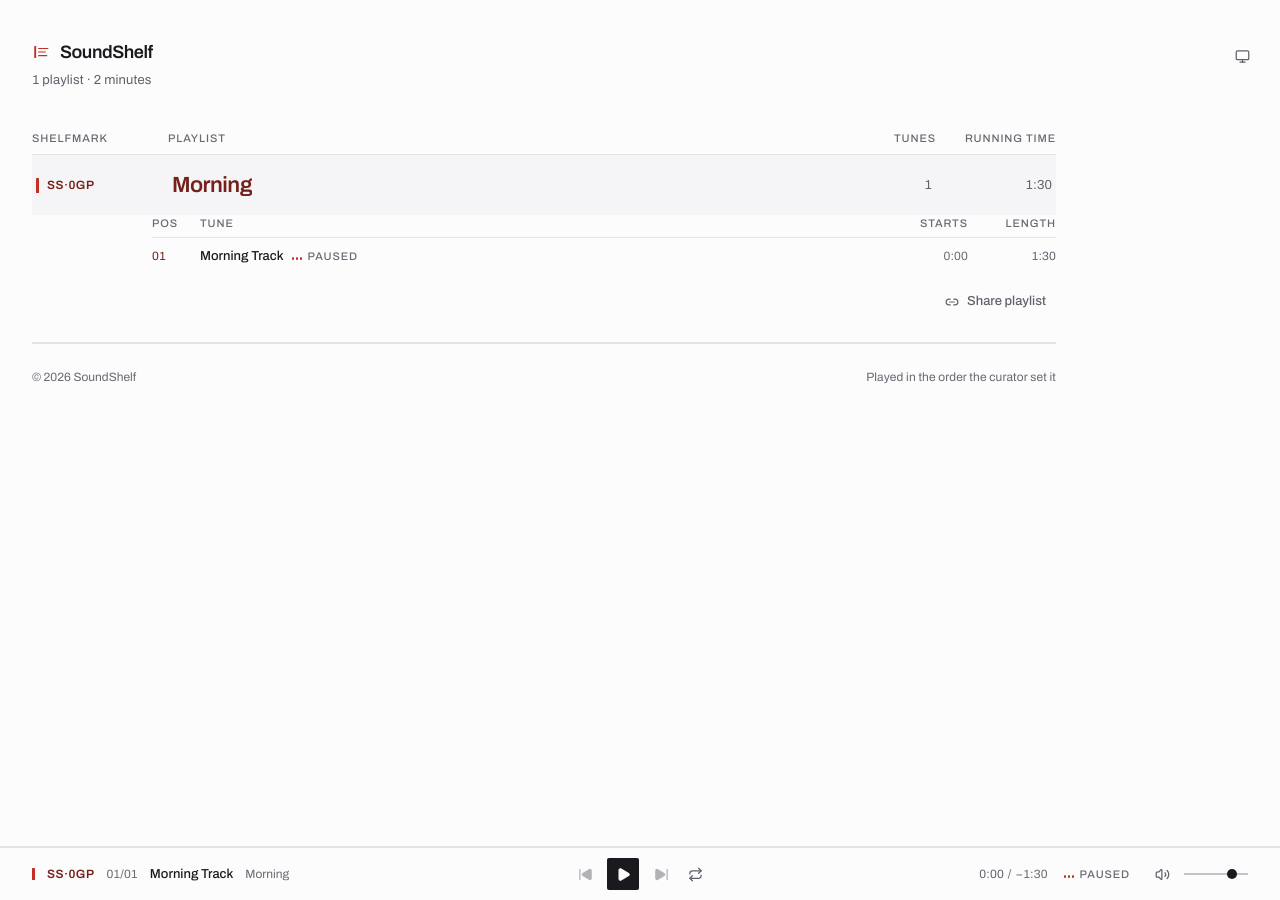
PlaylistBrowser › copies a link to the selected playlist
The width and height of the screenshot is (1280, 900).
Click the button "Share playlist". click: x=996, y=302
box: [935, 286, 1056, 318]
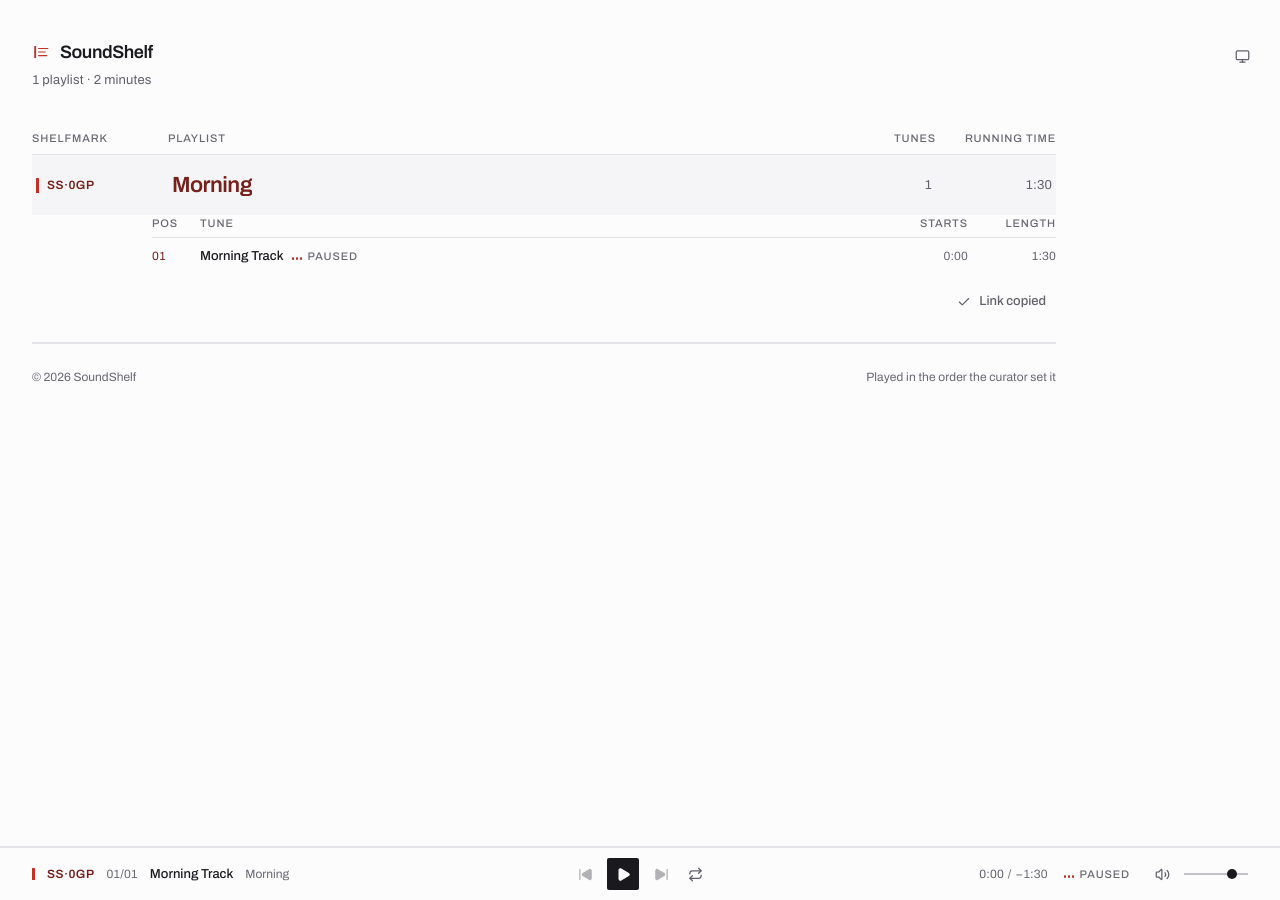
Now the button "Link copied" is shown, box [947, 286, 1056, 318]
